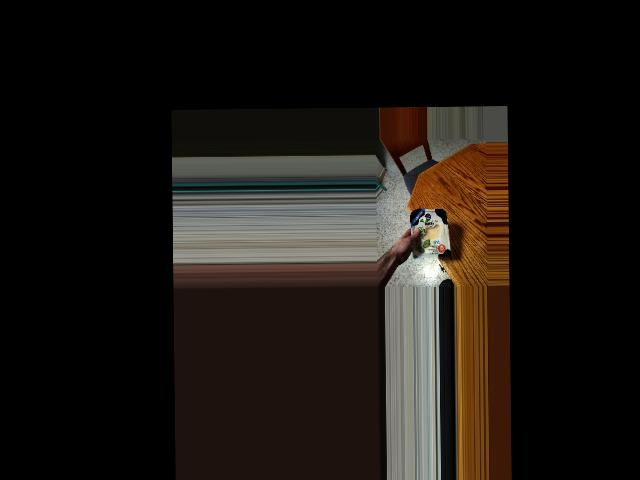cheese: (411, 200, 450, 267)
